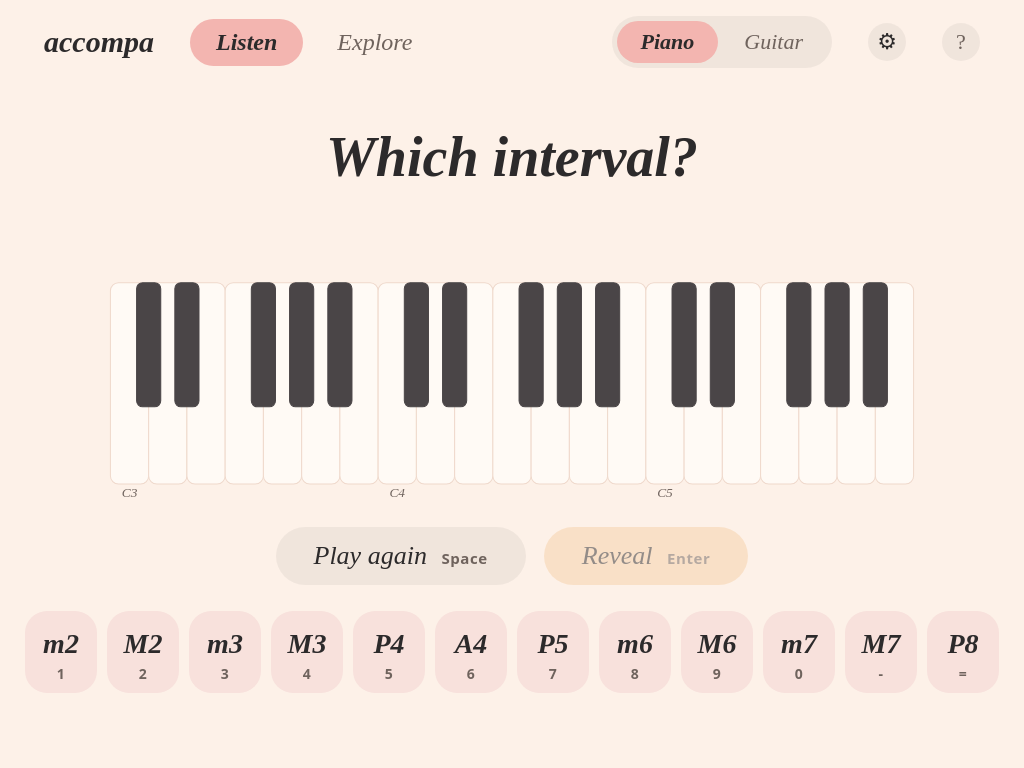
Test: matrix rows › replays the same chord after Explore and back in the app
Click the button named "Setup" at (887, 42), box [868,23,906,61]
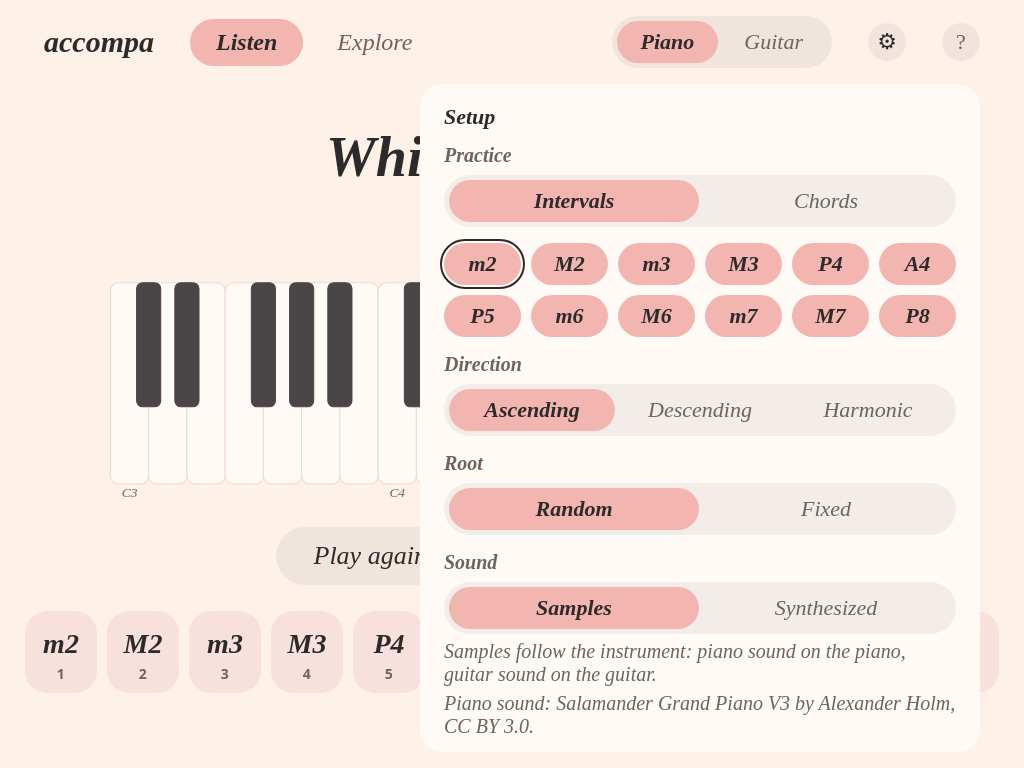
Click the radio button labelled "Chords" at (826, 200), box [794,188,858,213]
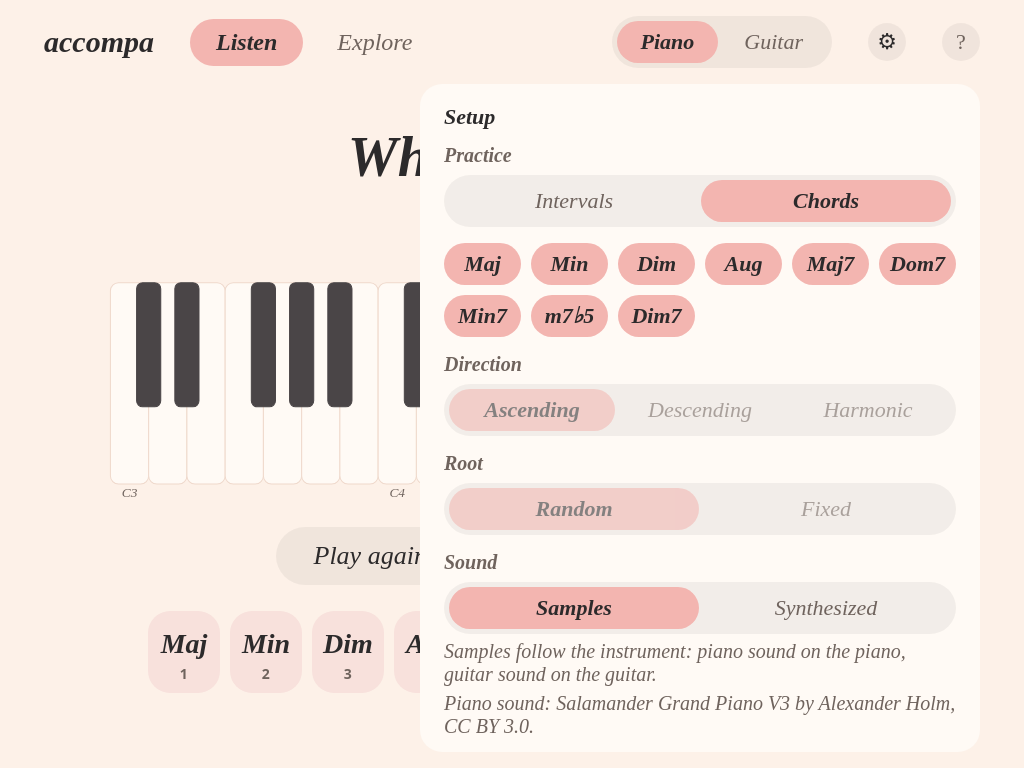
Click the button with class "setup-chip" showing "Min" at (570, 264), box [531,243,608,285]
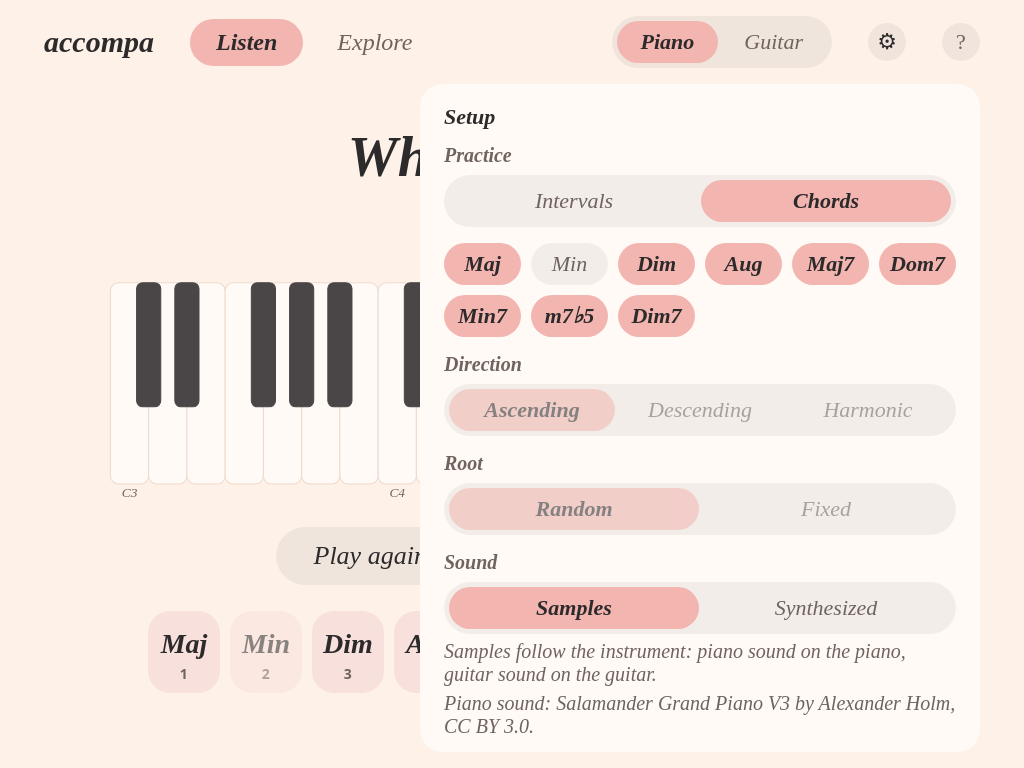
expect the element with class "listen" is shown: met, box [348,126,676,188]
Press m
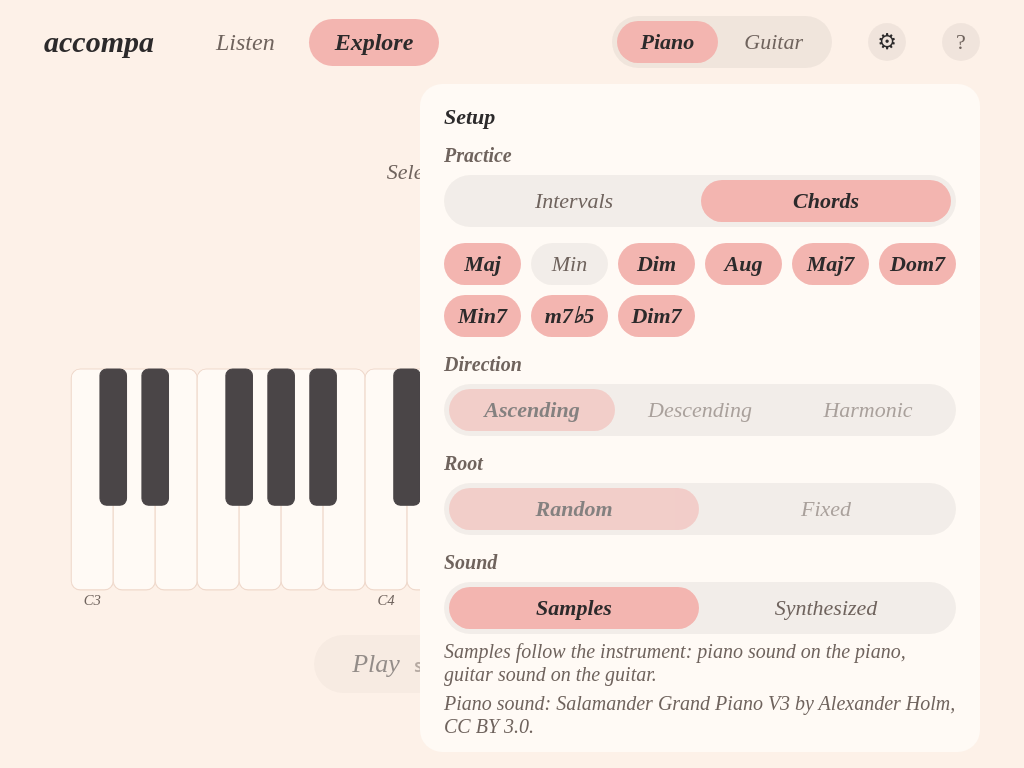
expect the element with class "listen" is gone: met
expect the text "Which chord?" is gone: met
Press m
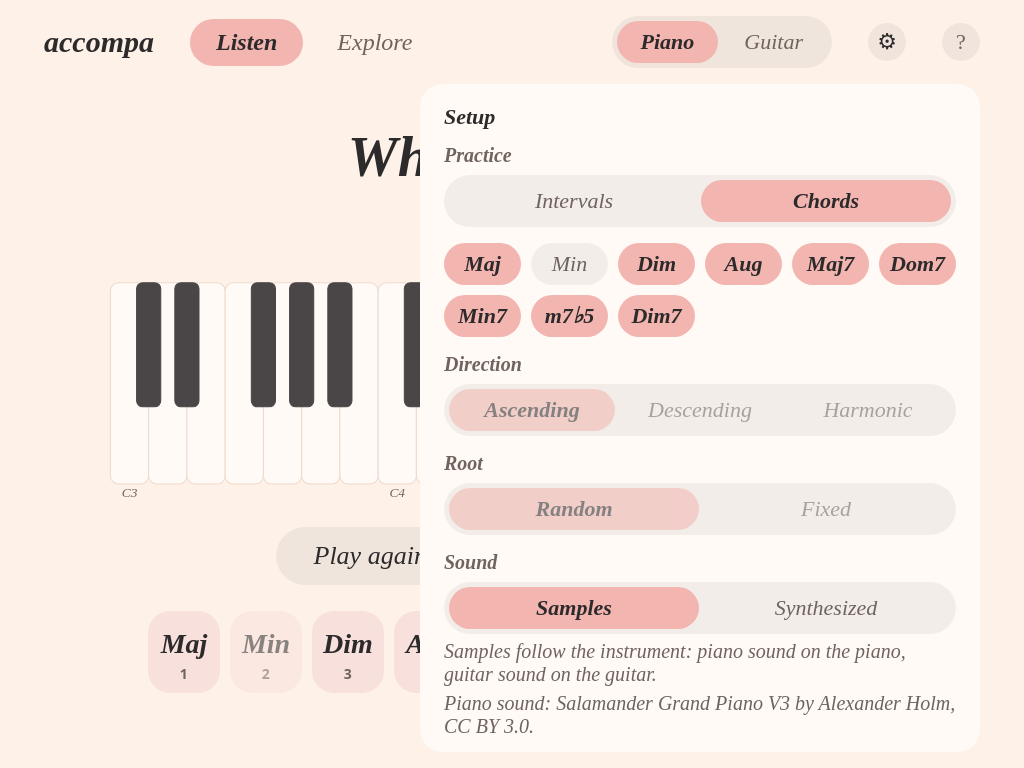
expect the element with class "listen" is shown: met, box [348,126,676,188]
expect the text "Which chord?" is shown: met, box [348,128,676,187]
